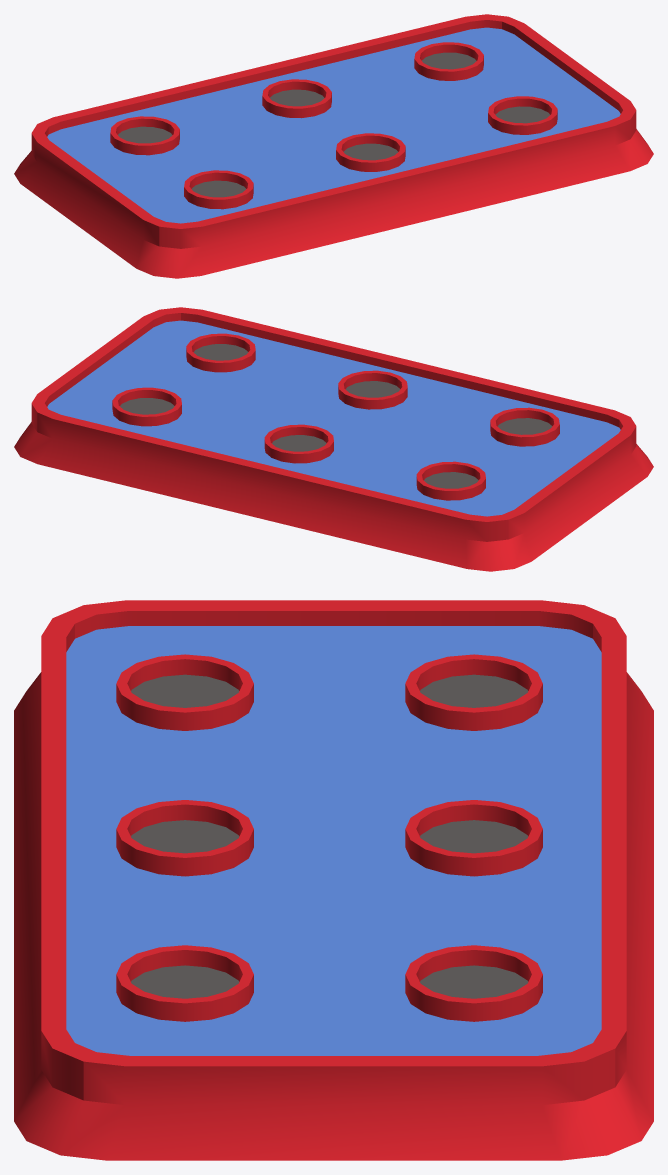
File: Obstacle 27 V1.fbx
3 views of the same model, one above another, from view 1: azimuth 30°, elevation 25°; view 2: azimuth 150°, elevation 25°; view 3: azimuth 270°, elevation 25° (orthographic). The views are drawn at different scales.
Parts seen in each view (by area): view 1: 027 Part 1; view 2: 027 Part 1; view 3: 027 Part 1.
Boxes of the visible parts, left/top/right/bottom form: 027 Part 1: left=14, top=14, right=653, bottom=278; 027 Part 1: left=14, top=307, right=653, bottom=571; 027 Part 1: left=14, top=600, right=653, bottom=1160.
Bounding box in the file's own units: 249 × 20.48 × 138.
Materials: 1 (1 with a texture image).
